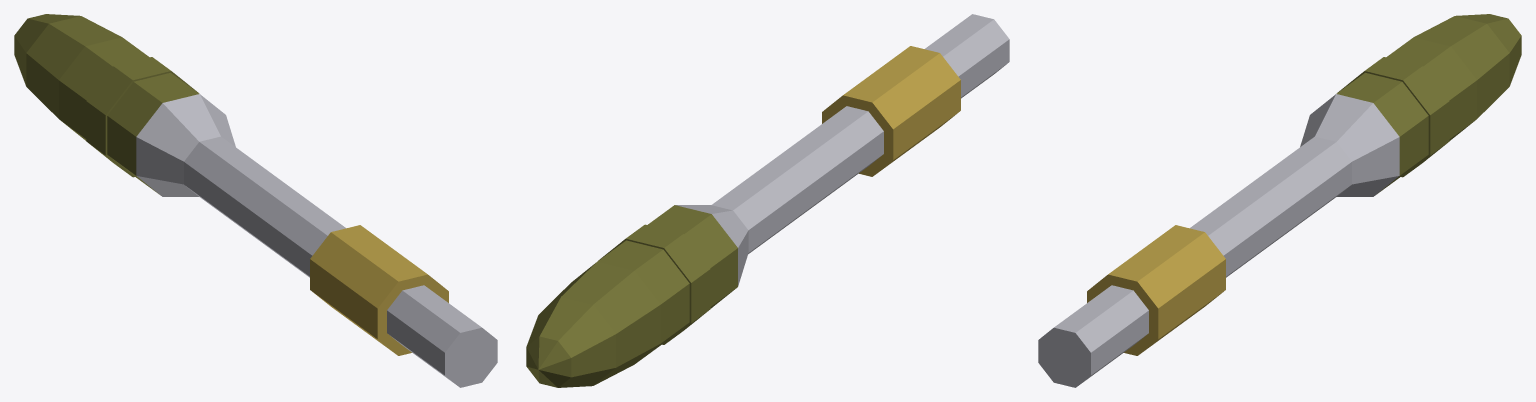
File: ce_ammo2_spg9_frag_a.obj
3 renders of one model, left to right at view 1: azimuth 30°, elevation 25°; view 2: azimuth 150°, elevation 25°; view 3: azimuth 330°, elevation 25°, orthographic.
Visible parts, largest first — view 1: ce_ammo2_spg9_frag_a_2, ce_ammo2_spg9_frag_a_1, ce_ammo2_spg9_frag_a_0, ce_ammo2_spg9_frag_a_3, ce_ammo2_spg9_frag_a_7, ce_ammo2_spg9_frag_a_4, ce_ammo2_spg9_frag_a_6, ce_ammo2_spg9_frag_a_5, ce_ammo2_spg9_frag_a_8; view 2: ce_ammo2_spg9_frag_a_2, ce_ammo2_spg9_frag_a_1, ce_ammo2_spg9_frag_a_7, ce_ammo2_spg9_frag_a_8, ce_ammo2_spg9_frag_a_6, ce_ammo2_spg9_frag_a_0, ce_ammo2_spg9_frag_a_4, ce_ammo2_spg9_frag_a_5, ce_ammo2_spg9_frag_a_9, ce_ammo2_spg9_frag_a_3; view 3: ce_ammo2_spg9_frag_a_2, ce_ammo2_spg9_frag_a_1, ce_ammo2_spg9_frag_a_0, ce_ammo2_spg9_frag_a_3, ce_ammo2_spg9_frag_a_7, ce_ammo2_spg9_frag_a_4, ce_ammo2_spg9_frag_a_6, ce_ammo2_spg9_frag_a_5, ce_ammo2_spg9_frag_a_8.
Boxes of the visible parts, bbox=[...] form: ce_ammo2_spg9_frag_a_2: bbox=[184, 136, 345, 277]; ce_ammo2_spg9_frag_a_1: bbox=[310, 225, 448, 355]; ce_ammo2_spg9_frag_a_0: bbox=[387, 285, 497, 387]; ce_ammo2_spg9_frag_a_3: bbox=[136, 94, 235, 196]; ce_ammo2_spg9_frag_a_7: bbox=[26, 16, 121, 118]; ce_ammo2_spg9_frag_a_4: bbox=[107, 72, 199, 194]; ce_ammo2_spg9_frag_a_6: bbox=[59, 37, 149, 140]; ce_ammo2_spg9_frag_a_5: bbox=[86, 57, 198, 177]; ce_ammo2_spg9_frag_a_8: bbox=[14, 14, 79, 85]; ce_ammo2_spg9_frag_a_2: bbox=[711, 106, 883, 253]; ce_ammo2_spg9_frag_a_1: bbox=[822, 46, 960, 176]; ce_ammo2_spg9_frag_a_7: bbox=[540, 261, 660, 385]; ce_ammo2_spg9_frag_a_8: bbox=[526, 297, 615, 387]; ce_ammo2_spg9_frag_a_6: bbox=[597, 240, 689, 361]; ce_ammo2_spg9_frag_a_0: bbox=[924, 14, 1009, 98]; ce_ammo2_spg9_frag_a_4: bbox=[648, 205, 737, 308]; ce_ammo2_spg9_frag_a_5: bbox=[598, 224, 710, 344]; ce_ammo2_spg9_frag_a_9: bbox=[526, 336, 571, 387]; ce_ammo2_spg9_frag_a_3: bbox=[675, 205, 748, 286]; ce_ammo2_spg9_frag_a_2: bbox=[1190, 136, 1351, 277]; ce_ammo2_spg9_frag_a_1: bbox=[1087, 225, 1225, 355]; ce_ammo2_spg9_frag_a_0: bbox=[1038, 285, 1148, 387]; ce_ammo2_spg9_frag_a_3: bbox=[1300, 94, 1399, 196]; ce_ammo2_spg9_frag_a_7: bbox=[1414, 16, 1509, 118]; ce_ammo2_spg9_frag_a_4: bbox=[1336, 72, 1428, 194]; ce_ammo2_spg9_frag_a_6: bbox=[1386, 37, 1476, 140]; ce_ammo2_spg9_frag_a_5: bbox=[1337, 57, 1449, 177]; ce_ammo2_spg9_frag_a_8: bbox=[1456, 14, 1521, 85].
Bounding box in the file's own units: 0.1108 × 0.1108 × 0.92.
